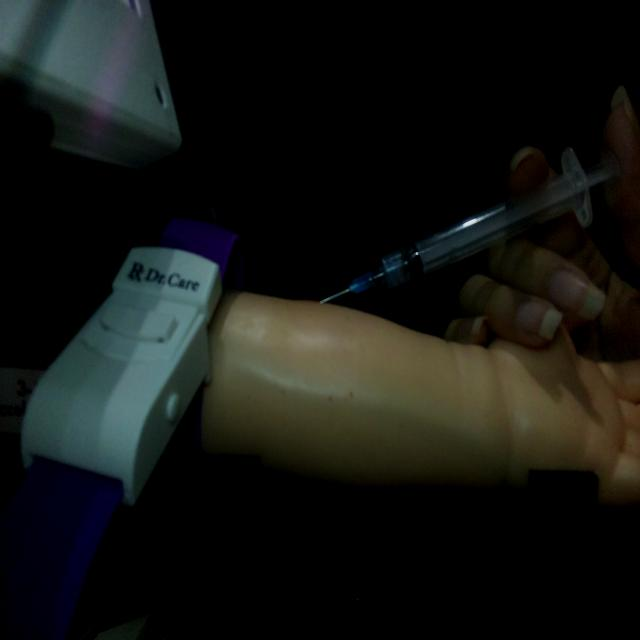15 degrees: (318, 143, 620, 307)
